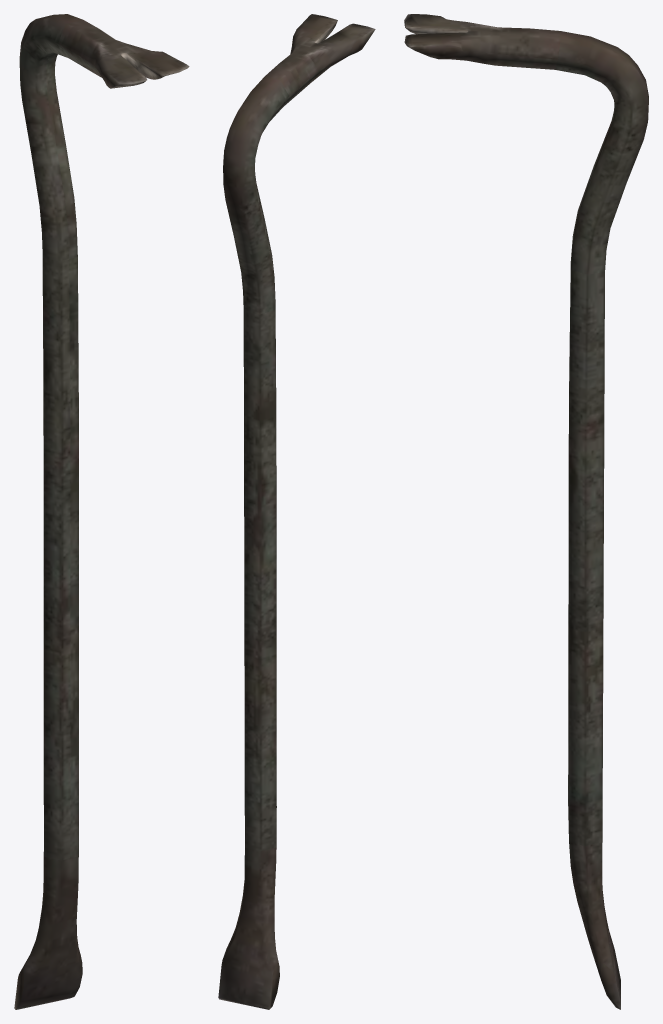
The model's file is crowbar_01.glb.
3 views of the same model, side by side, from view 1: azimuth 30°, elevation 25°; view 2: azimuth 150°, elevation 25°; view 3: azimuth 270°, elevation 25° (orthographic). The views are drawn at different scales.
Parts seen in each view (by area): view 1: crowbar_01; view 2: crowbar_01; view 3: crowbar_01.
Part boxes in pixels (left/top/right/bottom): crowbar_01: left=14, top=14, right=189, bottom=1009; crowbar_01: left=218, top=14, right=375, bottom=1009; crowbar_01: left=404, top=14, right=648, bottom=1009.
Bounding box in the file's own units: 0.0404 × 0.5553 × 0.1274.
1 material, 1 textured.
